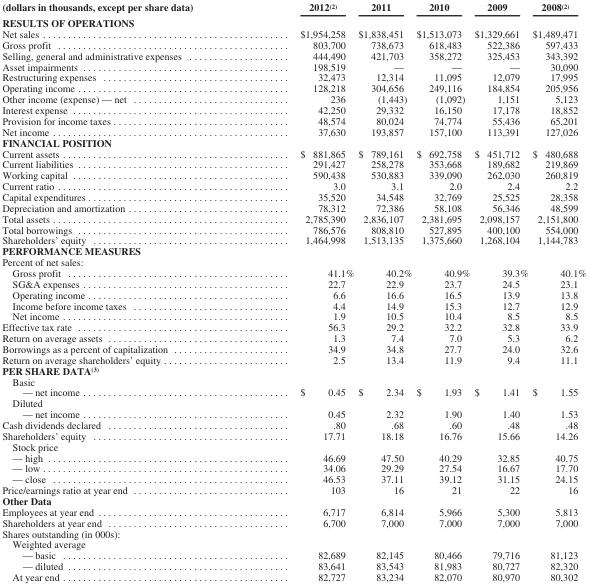table: (1, 0, 585, 582)
table column: (1, 0, 245, 582), (245, 0, 355, 582), (355, 0, 413, 582), (413, 0, 471, 582), (471, 0, 529, 582), (529, 0, 585, 582)
table column header: (1, 0, 585, 14)
table projected row header: (1, 14, 585, 28), (1, 136, 585, 147), (1, 245, 585, 256), (1, 256, 585, 267), (1, 364, 585, 375), (1, 375, 585, 386), (1, 397, 585, 408), (1, 440, 585, 451), (1, 494, 585, 505), (1, 527, 585, 538), (1, 538, 585, 549)
table row: (1, 0, 585, 14), (1, 14, 585, 28), (1, 28, 585, 39), (1, 49, 585, 60), (1, 60, 585, 71), (1, 71, 585, 82), (1, 82, 585, 93), (1, 93, 585, 104), (1, 104, 585, 115), (1, 125, 585, 136), (1, 136, 585, 147), (1, 147, 585, 158), (1, 158, 585, 169), (1, 169, 585, 180), (1, 180, 585, 191), (1, 201, 585, 212), (1, 212, 585, 223), (1, 223, 585, 234), (1, 234, 585, 245), (1, 245, 585, 256), (1, 256, 585, 267), (1, 277, 585, 288), (1, 288, 585, 299), (1, 299, 585, 310), (1, 310, 585, 321), (1, 321, 585, 332), (1, 332, 585, 343), (1, 353, 585, 364), (1, 364, 585, 375), (1, 375, 585, 386), (1, 386, 585, 397), (1, 397, 585, 408), (1, 408, 585, 419), (1, 429, 585, 440), (1, 440, 585, 451), (1, 451, 585, 462), (1, 462, 585, 473), (1, 473, 585, 484), (1, 494, 585, 505), (1, 505, 585, 516), (1, 516, 585, 527), (1, 527, 585, 538), (1, 538, 585, 549), (1, 549, 585, 560), (1, 560, 585, 571), (1, 571, 585, 582), (1, 39, 585, 49), (1, 115, 585, 125), (1, 191, 585, 201), (1, 267, 585, 277), (1, 343, 585, 353), (1, 419, 585, 429), (1, 484, 585, 494)
